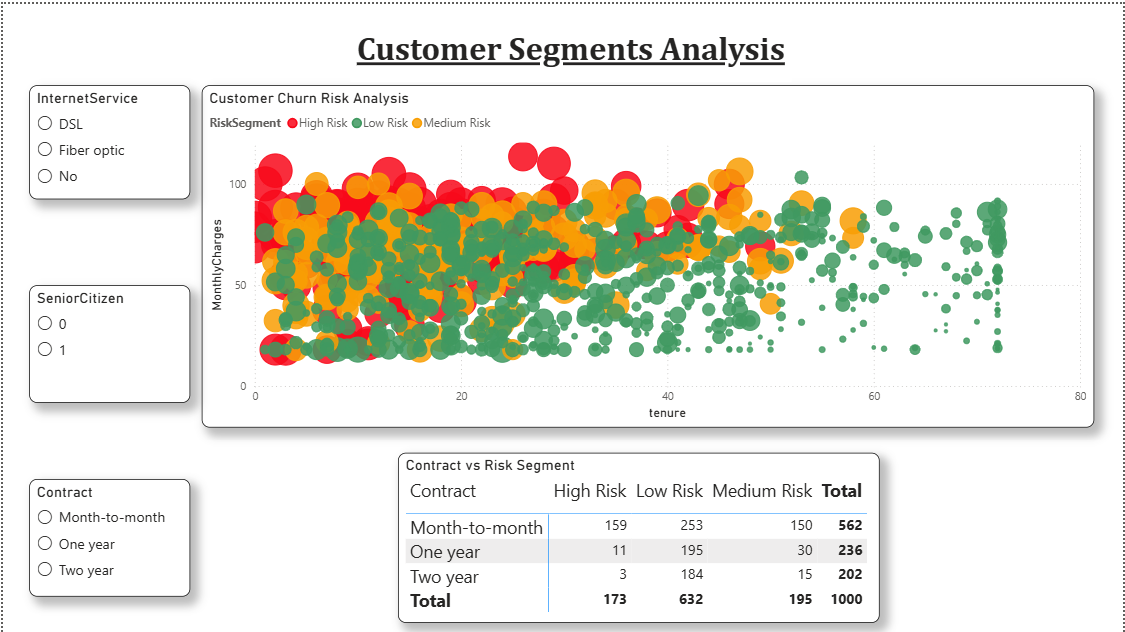

Layout of this report page (visuals, bound fields, positions):
{"tool":"powerbi","page":{"name":"Customer Segments","canvas":[1280,720],"ordinal":1},"visuals":[{"type":"pivotTable","title":"Contract vs Risk Segment","fields":{"Rows":["churn_scored_for_powerbi.Contract"],"Columns":["churn_scored_for_powerbi.RiskSegment"],"Values":["CountNonNull(churn_scored_for_powerbi.customerID)"]},"box":[451.4,512.9,550,194.3],"z":0},{"type":"scatterChart","title":"Customer Churn Risk Analysis","fields":{"Y":["churn_scored_for_powerbi.MonthlyCharges"],"X":["churn_scored_for_powerbi.tenure"],"Series":["churn_scored_for_powerbi.RiskSegment"],"Size":["Sum(churn_scored_for_powerbi.ChurnProbability)"]},"box":[227.1,92.9,1020,391.4],"z":1000},{"type":"listSlicer","fields":{"Values":["churn_scored_for_powerbi.InternetService"]},"box":[30,92.9,184.3,130],"z":2000},{"type":"listSlicer","fields":{"Values":["churn_scored_for_powerbi.SeniorCitizen"]},"box":[30,321.4,184.3,134.3],"z":3000},{"type":"listSlicer","fields":{"Values":["churn_scored_for_powerbi.Contract"]},"box":[30,542.9,184.3,134.3],"z":4000},{"type":"textbox","box":[396.6,24.7,503.6,64.5],"z":5000}]}

Visuals, with their boxes in screenshot pixels (x1, y1, x2, y2), scaled from the page's 1280x720 canvas onto the 1125x632 screenshot:
"Contract vs Risk Segment" pivotTable: (left=397, top=450, right=880, bottom=621)
"Customer Churn Risk Analysis" scatterChart: (left=200, top=82, right=1096, bottom=425)
listSlicer - churn_scored_for_powerbi.InternetService: (left=26, top=82, right=188, bottom=196)
listSlicer - churn_scored_for_powerbi.SeniorCitizen: (left=26, top=282, right=188, bottom=400)
listSlicer - churn_scored_for_powerbi.Contract: (left=26, top=477, right=188, bottom=594)
textbox: (left=349, top=22, right=791, bottom=78)
